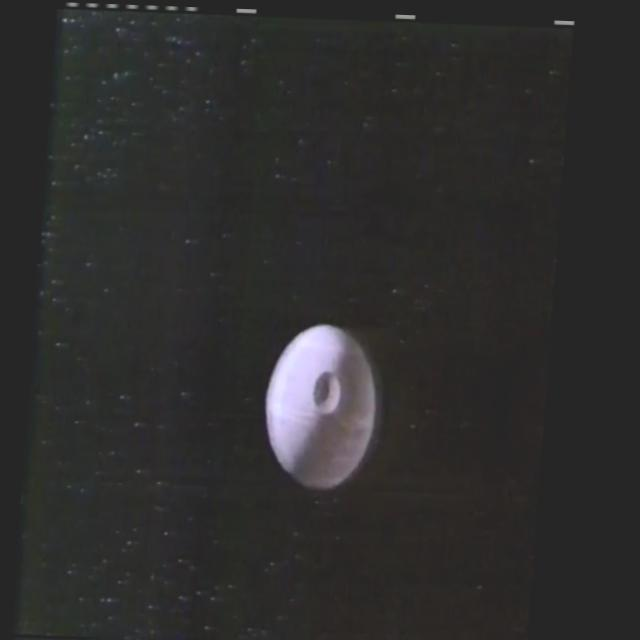deathStar: (269, 324, 386, 492)
